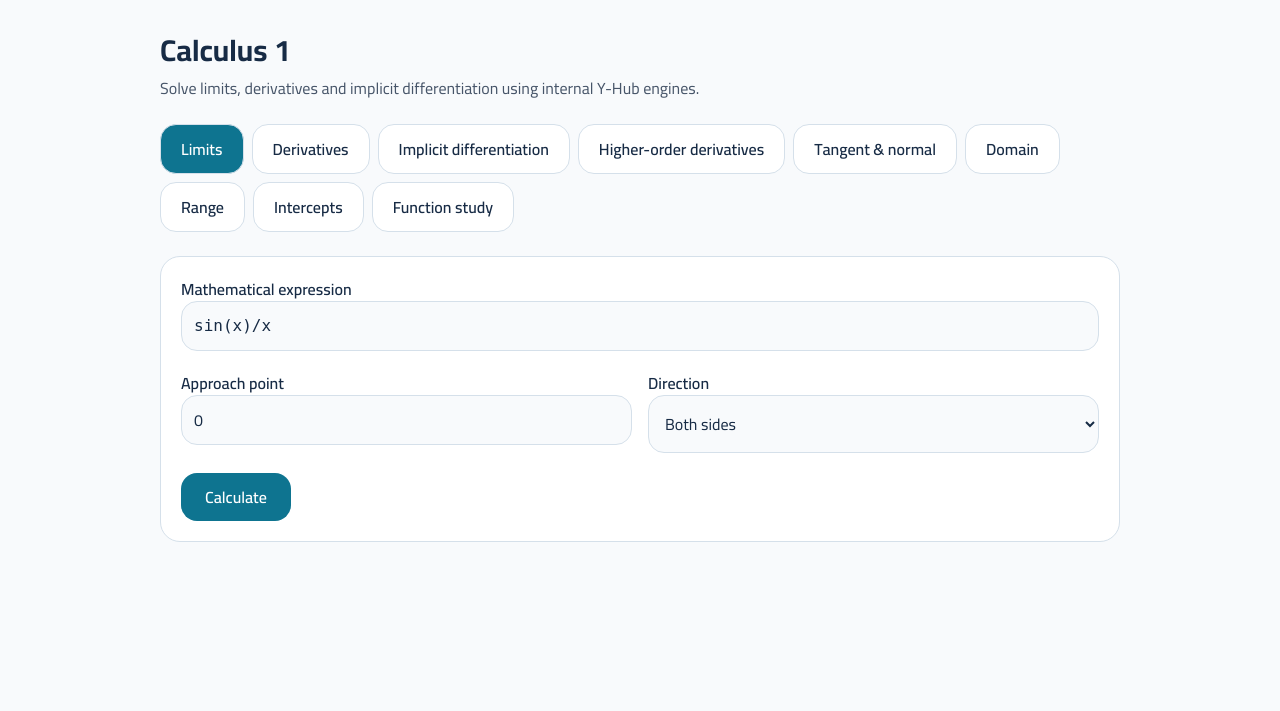
Calculus 1 intercepts UI › recognizes an identically zero function
The image size is (1280, 711).
Click the tab "Intercepts". click: click(308, 207)
box: x1=253 y1=182 x2=364 y2=232
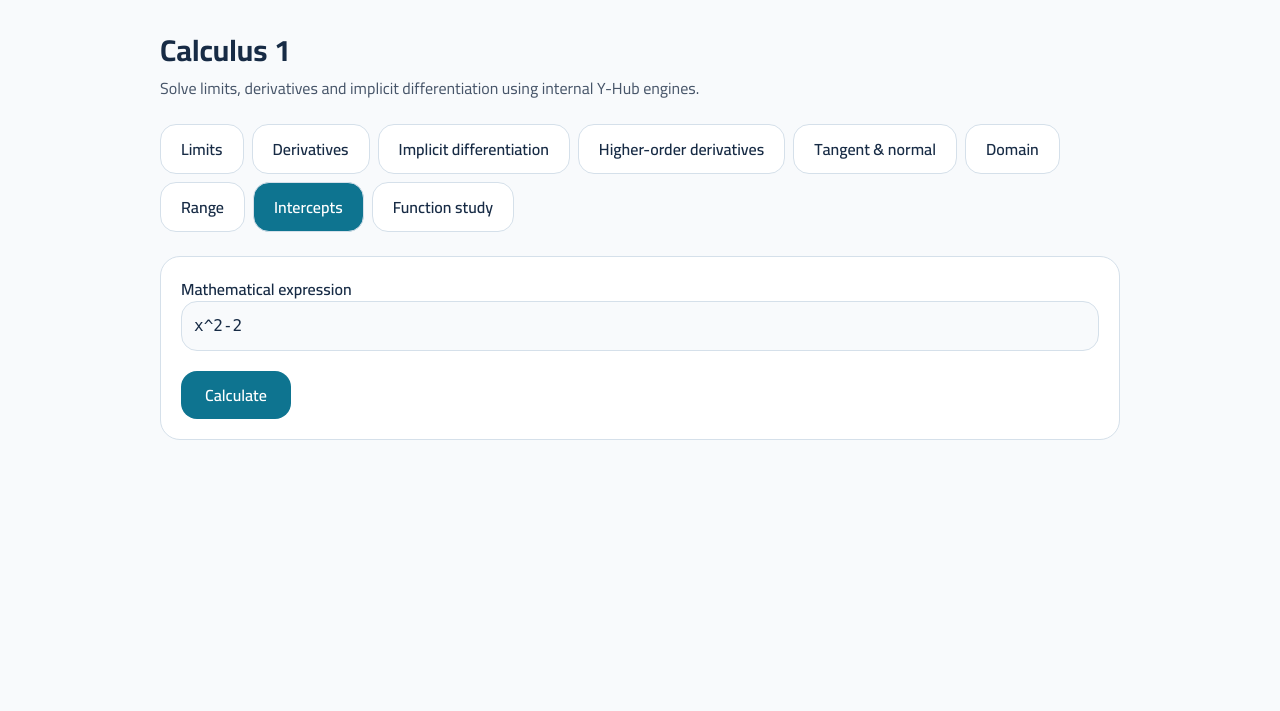
Type "0" into the field labelled "Mathematical expression". click: (640, 326)
box: x1=181 y1=301 x2=1099 y2=351
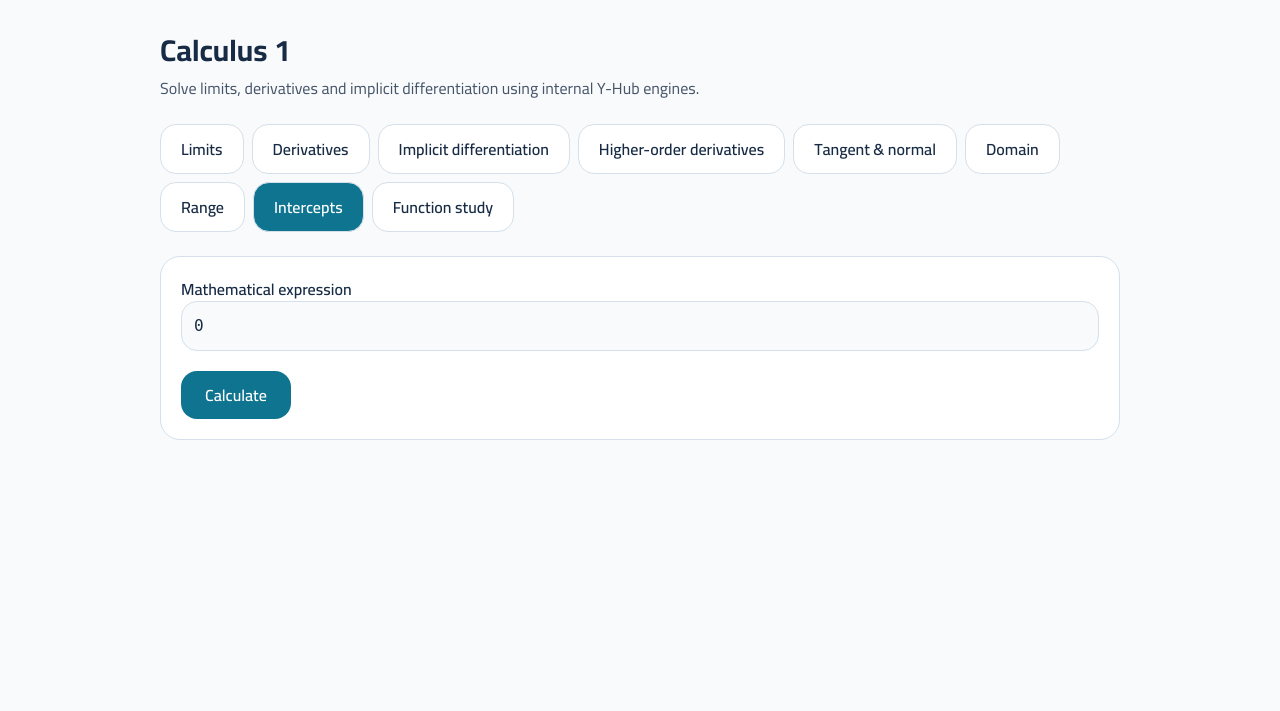
Click the button "Calculate". click: click(236, 395)
box: x1=181 y1=371 x2=291 y2=419
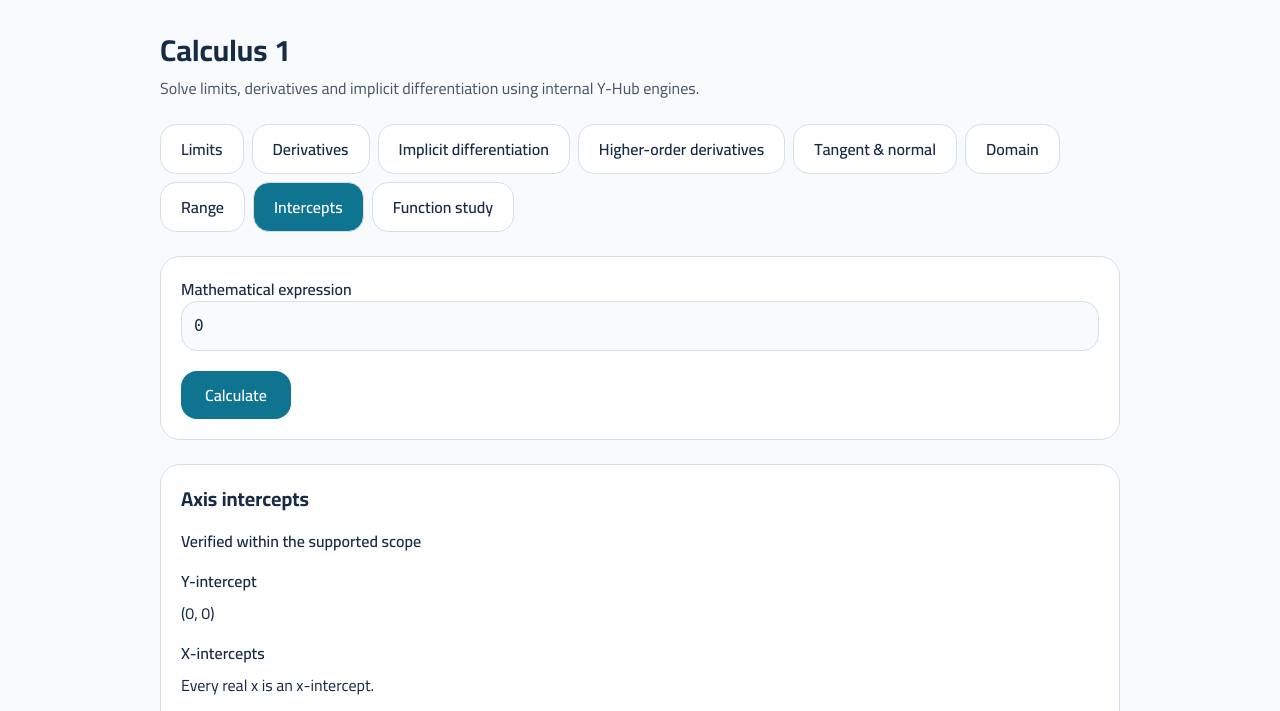
Expected: the text "Every real x is an x-intercept." is shown, x1=181 y1=670 x2=374 y2=700
